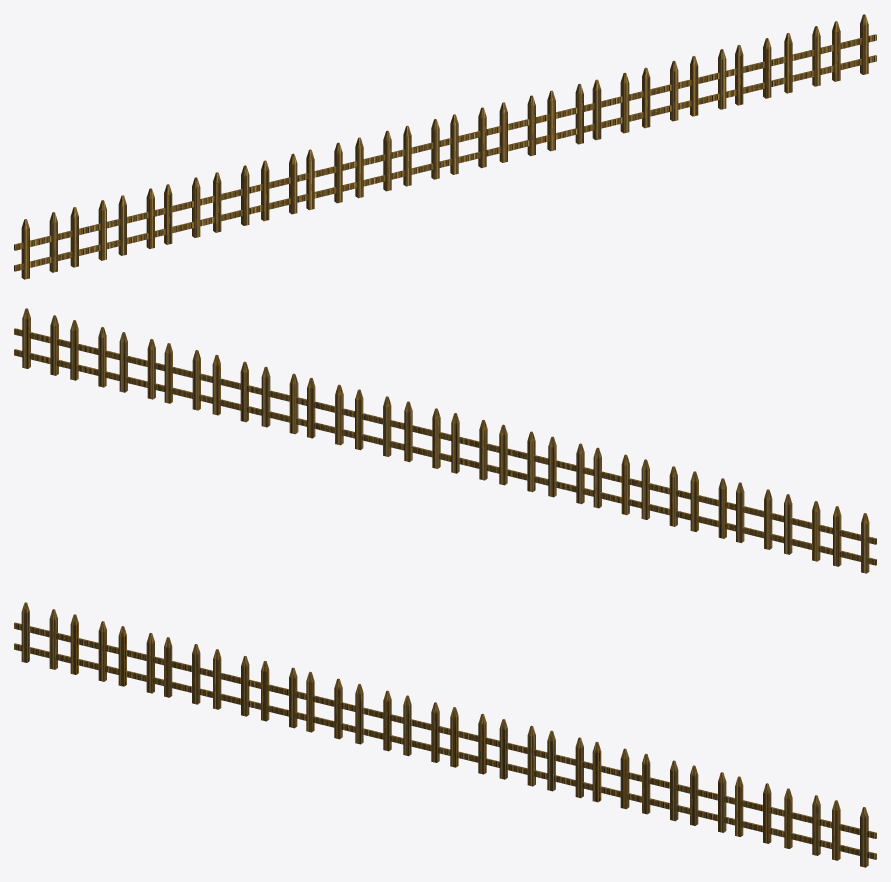
The model's file is sakusaku.FBX.
The picture shows the model from 3 angles, top to bottom: view 1: azimuth 30°, elevation 25°; view 2: azimuth 150°, elevation 25°; view 3: azimuth 330°, elevation 25°; orthographic projection.
Visible parts, largest first — view 1: Box058; view 2: Box058; view 3: Box058.
Part boxes in pixels (box(x1,y1,x2,y2)): Box058: box(14, 14, 876, 279); Box058: box(14, 308, 876, 573); Box058: box(14, 602, 876, 867).
Bounding box in the file's own units: 146 × 9.51 × 0.8309.
